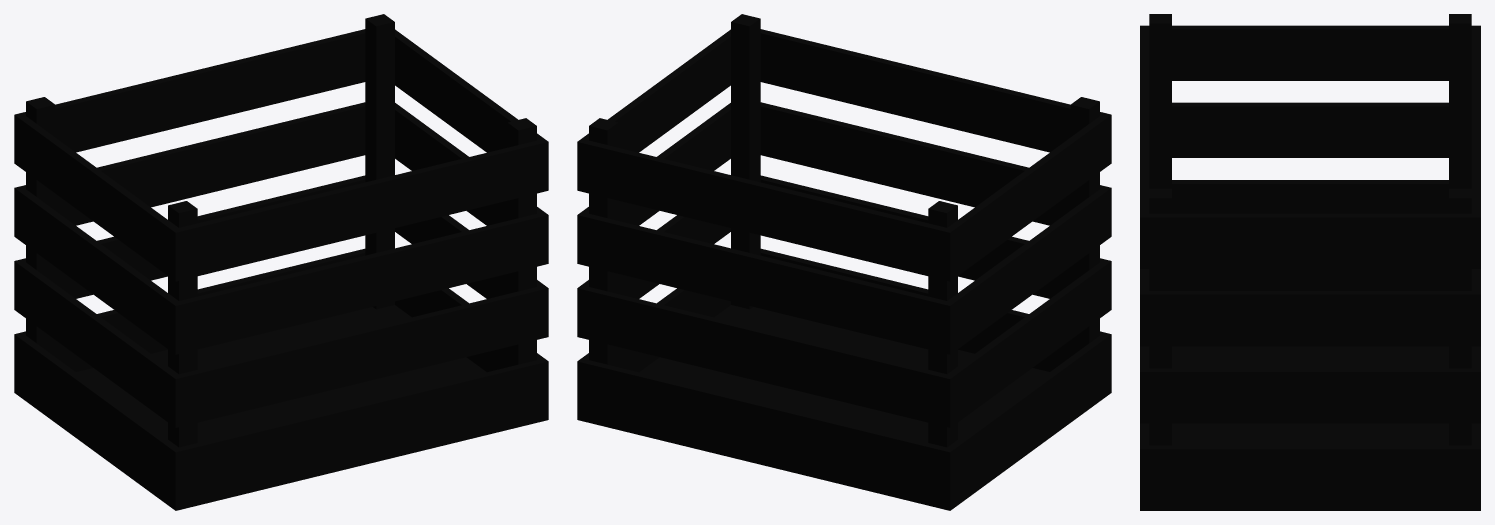
File: SM_crate.fbx
3 renders of one model, left to right at view 1: azimuth 30°, elevation 25°; view 2: azimuth 150°, elevation 25°; view 3: azimuth 270°, elevation 25°, orthographic. The views are drawn at different scales.
Visible parts, largest first — view 1: crate; view 2: crate; view 3: crate.
Boxes of the visible parts, x1,y1,x2,y2 form: crate: (14,14,548,510); crate: (577,14,1111,510); crate: (1140,14,1480,510).
Size of the model in its own units: 0.6 by 0.45 by 0.45.
